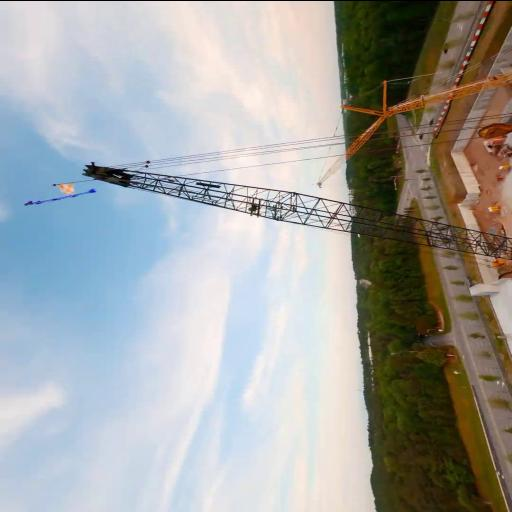uav: (15, 188, 105, 210)
